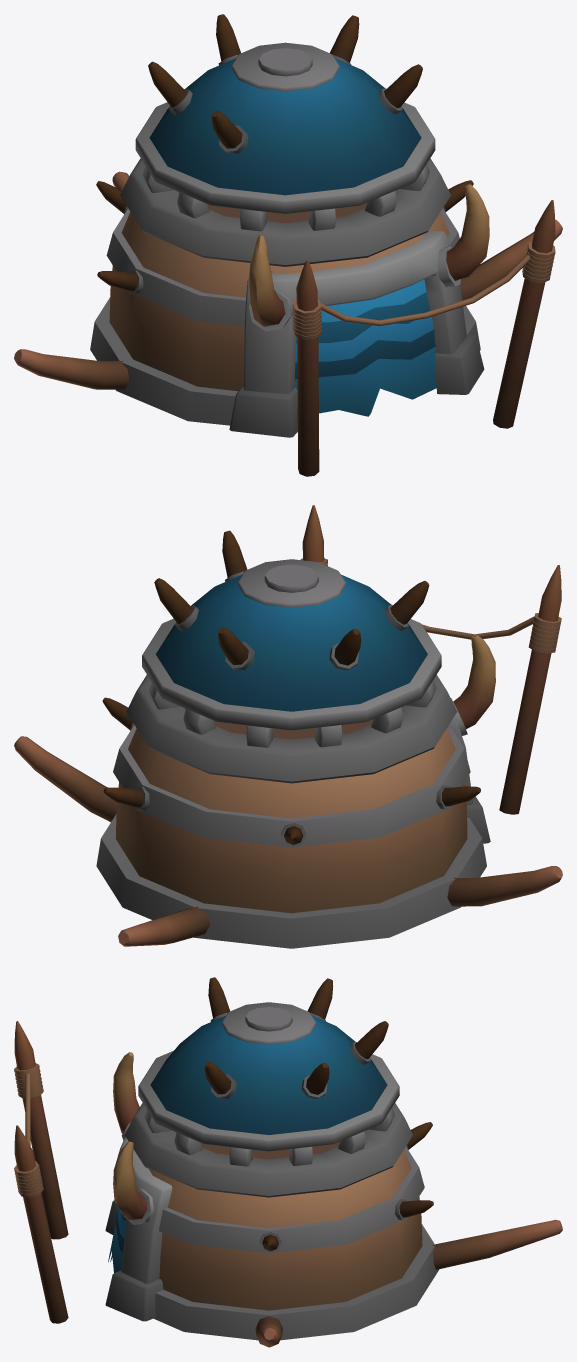
The model's file is Camp_3.fbx.
3 views of the same model, one above another, from view 1: azimuth 30°, elevation 25°; view 2: azimuth 150°, elevation 25°; view 3: azimuth 270°, elevation 25° (orthographic). The views are drawn at different scales.
Parts seen in each view (by area): view 1: Camp_3; view 2: Camp_3; view 3: Camp_3.
Boxes of the visible parts, x1=… form: Camp_3: x1=14, y1=14, x2=562, y2=476; Camp_3: x1=14, y1=505, x2=562, y2=948; Camp_3: x1=14, y1=977, x2=562, y2=1347.
Bounding box in the file's own units: 477 × 252 × 477.
